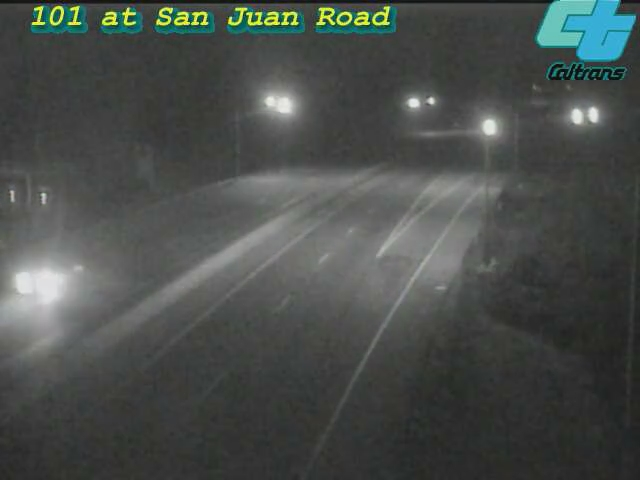vehicle: (1, 243, 80, 323), (467, 101, 517, 151), (549, 91, 599, 141), (568, 90, 618, 140)
